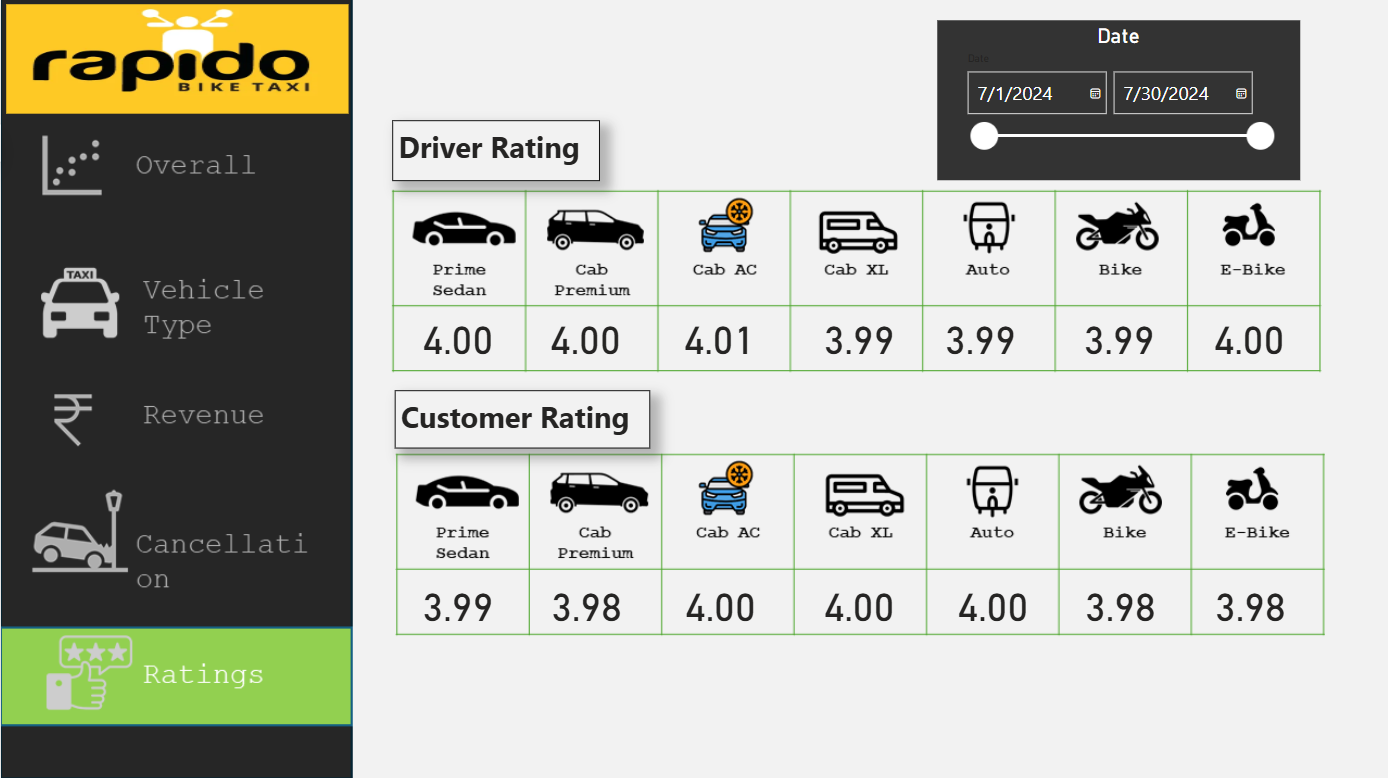

This screenshot's page, from the dashboard's own definition file:
{"tool":"powerbi","page":{"name":"Ratings","canvas":[1280,720],"ordinal":4},"visuals":[{"type":"actionButton","box":[0,234.5,325,90.5],"z":0},{"type":"actionButton","box":[0,110.7,325,90.5],"z":1000},{"type":"actionButton","box":[0,346.4,325,90.5],"z":2000},{"type":"actionButton","box":[0,451.2,325,104.8],"z":3000},{"type":"card","fields":{"Values":["Avg(July.Driver_Ratings)"]},"box":[372.5,288.8,96.2,45],"z":3001},{"type":"card","fields":{"Values":["Avg(July.Driver_Ratings)"]},"box":[490,288.8,96.2,45],"z":3002},{"type":"card","fields":{"Values":["Avg(July.Driver_Ratings)"]},"box":[613.8,288.8,96.2,45],"z":3003},{"type":"card","fields":{"Values":["Avg(July.Driver_Ratings)"]},"box":[742.5,288.8,96.2,45],"z":3004},{"type":"card","fields":{"Values":["Avg(July.Driver_Ratings)"]},"box":[853.8,288.8,96.2,45],"z":3005},{"type":"card","fields":{"Values":["Avg(July.Driver_Ratings)"]},"box":[981.2,288.8,96.2,45],"z":3006},{"type":"card","fields":{"Values":["Avg(July.Driver_Ratings)"]},"box":[1101.2,288.8,96.2,45],"z":3007},{"type":"card","fields":{"Values":["Avg(July.Customer_Rating)"]},"box":[372.5,533.8,96.2,45],"z":3008},{"type":"card","fields":{"Values":["Avg(July.Customer_Rating)"]},"box":[491.2,533.8,96.2,45],"z":3009},{"type":"card","fields":{"Values":["Avg(July.Customer_Rating)"]},"box":[615,533.8,96.2,45],"z":3010},{"type":"card","fields":{"Values":["Avg(July.Customer_Rating)"]},"box":[742.5,533.8,96.2,45],"z":3011},{"type":"card","fields":{"Values":["Avg(July.Customer_Rating)"]},"box":[865,533.8,96.2,45],"z":3012},{"type":"card","fields":{"Values":["Avg(July.Customer_Rating)"]},"box":[982.5,533.8,96.2,45],"z":3013},{"type":"card","fields":{"Values":["Avg(July.Customer_Rating)"]},"box":[1102.5,533.8,96.2,45],"z":3014},{"type":"textbox","box":[360,111.2,191.2,56.2],"z":3015},{"type":"textbox","box":[362.5,360,235,53.8],"z":3016},{"type":"slicer","title":"Date","fields":{"Values":["July.Date"]},"box":[862.5,20,333.8,147.5],"z":3017}]}

Visuals, with their boxes on the page's 1280x720 design canvas (x1, y1, x2, y2). These are canvas units, not pixel positions in the 1388x778 screenshot, which may show the page scaled, cropped or inside an application window:
actionButton: bbox(0, 234, 325, 325)
actionButton: bbox(0, 111, 325, 201)
actionButton: bbox(0, 346, 325, 437)
actionButton: bbox(0, 451, 325, 556)
card - Avg(July.Driver_Ratings): bbox(372, 289, 469, 334)
card - Avg(July.Driver_Ratings): bbox(490, 289, 586, 334)
card - Avg(July.Driver_Ratings): bbox(614, 289, 710, 334)
card - Avg(July.Driver_Ratings): bbox(742, 289, 839, 334)
card - Avg(July.Driver_Ratings): bbox(854, 289, 950, 334)
card - Avg(July.Driver_Ratings): bbox(981, 289, 1077, 334)
card - Avg(July.Driver_Ratings): bbox(1101, 289, 1197, 334)
card - Avg(July.Customer_Rating): bbox(372, 534, 469, 579)
card - Avg(July.Customer_Rating): bbox(491, 534, 587, 579)
card - Avg(July.Customer_Rating): bbox(615, 534, 711, 579)
card - Avg(July.Customer_Rating): bbox(742, 534, 839, 579)
card - Avg(July.Customer_Rating): bbox(865, 534, 961, 579)
card - Avg(July.Customer_Rating): bbox(982, 534, 1079, 579)
card - Avg(July.Customer_Rating): bbox(1102, 534, 1199, 579)
textbox: bbox(360, 111, 551, 167)
textbox: bbox(362, 360, 598, 414)
"Date" slicer: bbox(862, 20, 1196, 168)
